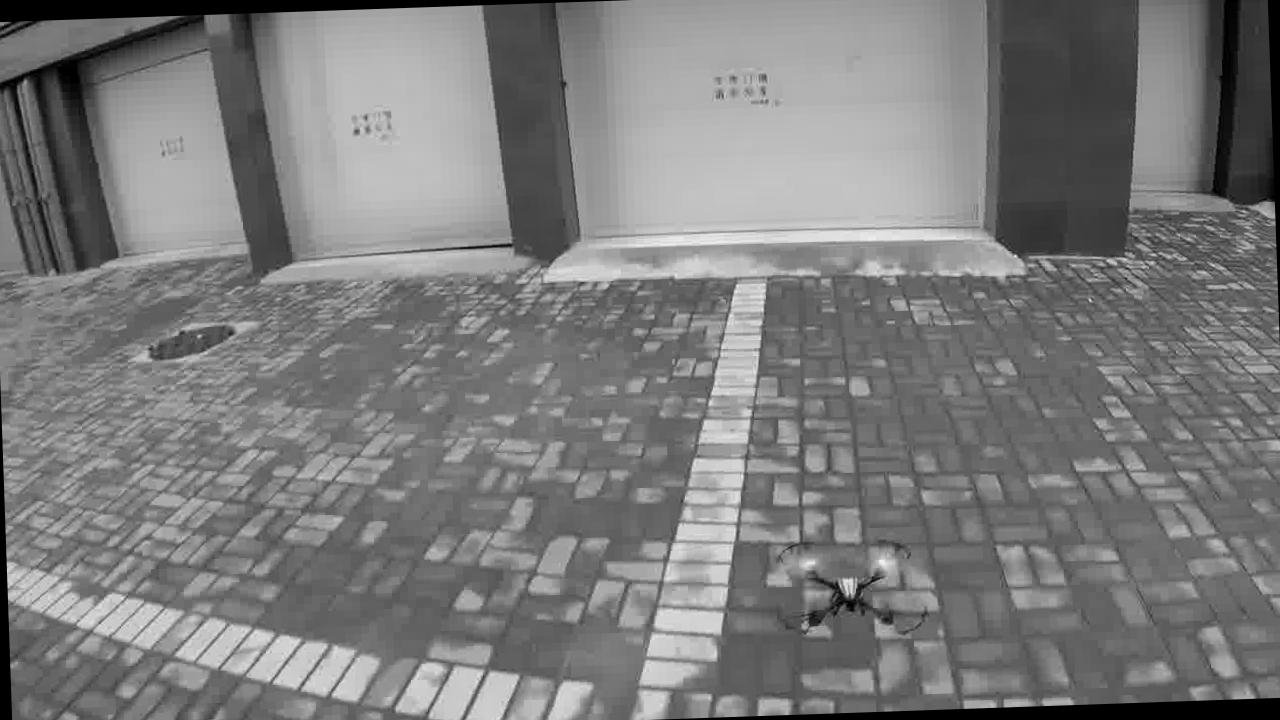drone: (758, 535, 939, 660)
